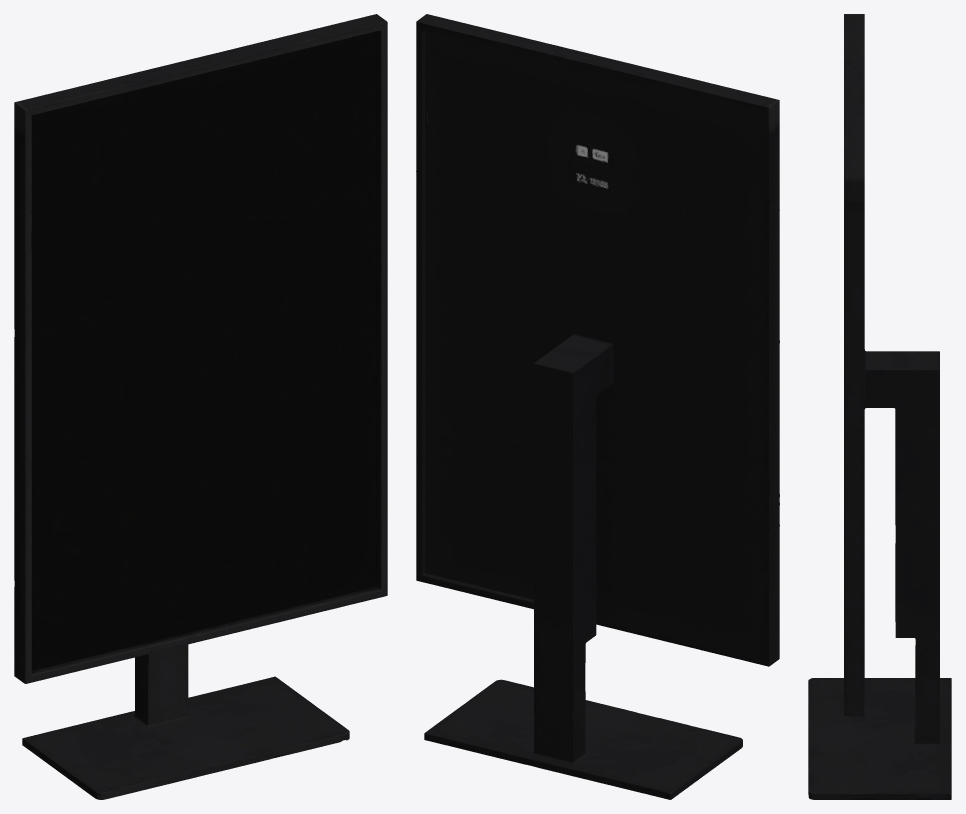
Rendered from monitor.glb.
The picture shows the model from 3 angles, left to right: view 1: azimuth 30°, elevation 25°; view 2: azimuth 150°, elevation 25°; view 3: azimuth 270°, elevation 25°; orthographic projection. The views are drawn at different scales.
Visible parts, largest first — view 1: Mesh_0; view 2: Mesh_0; view 3: Mesh_0.
Boxes of the visible parts, x1,y1,x2,y2 form: Mesh_0: (14,14,387,799); Mesh_0: (416,14,779,799); Mesh_0: (808,14,951,799).
Size of the model in its own units: 1.04 by 1.9 by 0.3822.
Materials: 1 (1 with a texture image).
